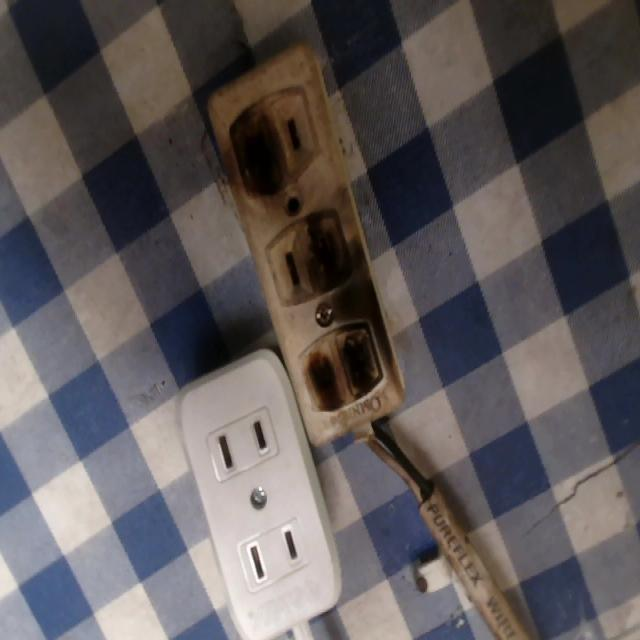-: (299, 323, 398, 417), (231, 103, 288, 204), (304, 209, 361, 284)
